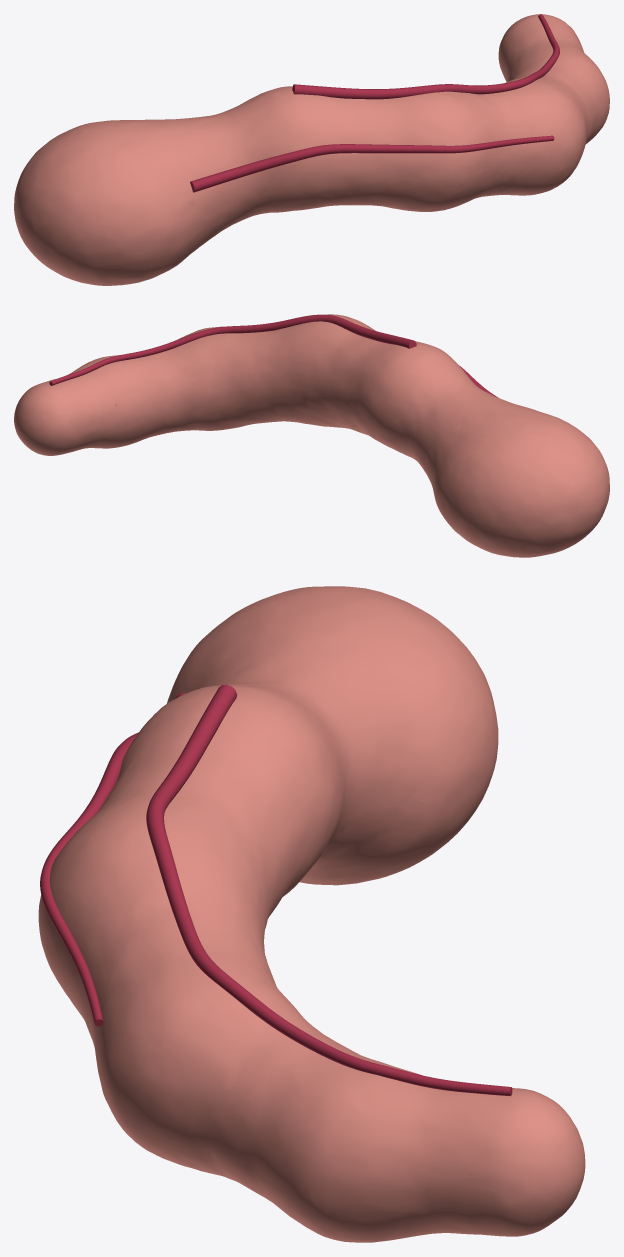
File: appendix.glb
3 renders of one model, top to bottom at view 1: azimuth 30°, elevation 25°; view 2: azimuth 150°, elevation 25°; view 3: azimuth 270°, elevation 25°, orthographic. The views are drawn at different scales.
Parts seen in each view (by area): view 1: Appendix, Vessels; view 2: Appendix, Vessels; view 3: Appendix, Vessels.
Part boxes in pixels (x1,y1,x2,y2): Appendix: (14, 14, 609, 285); Vessels: (190, 14, 559, 192); Appendix: (14, 314, 609, 557); Vessels: (49, 314, 498, 397); Appendix: (38, 586, 585, 1242); Vessels: (40, 684, 512, 1096).
Bounding box in the file's own units: 0.0957 × 0.0266 × 0.0423.
